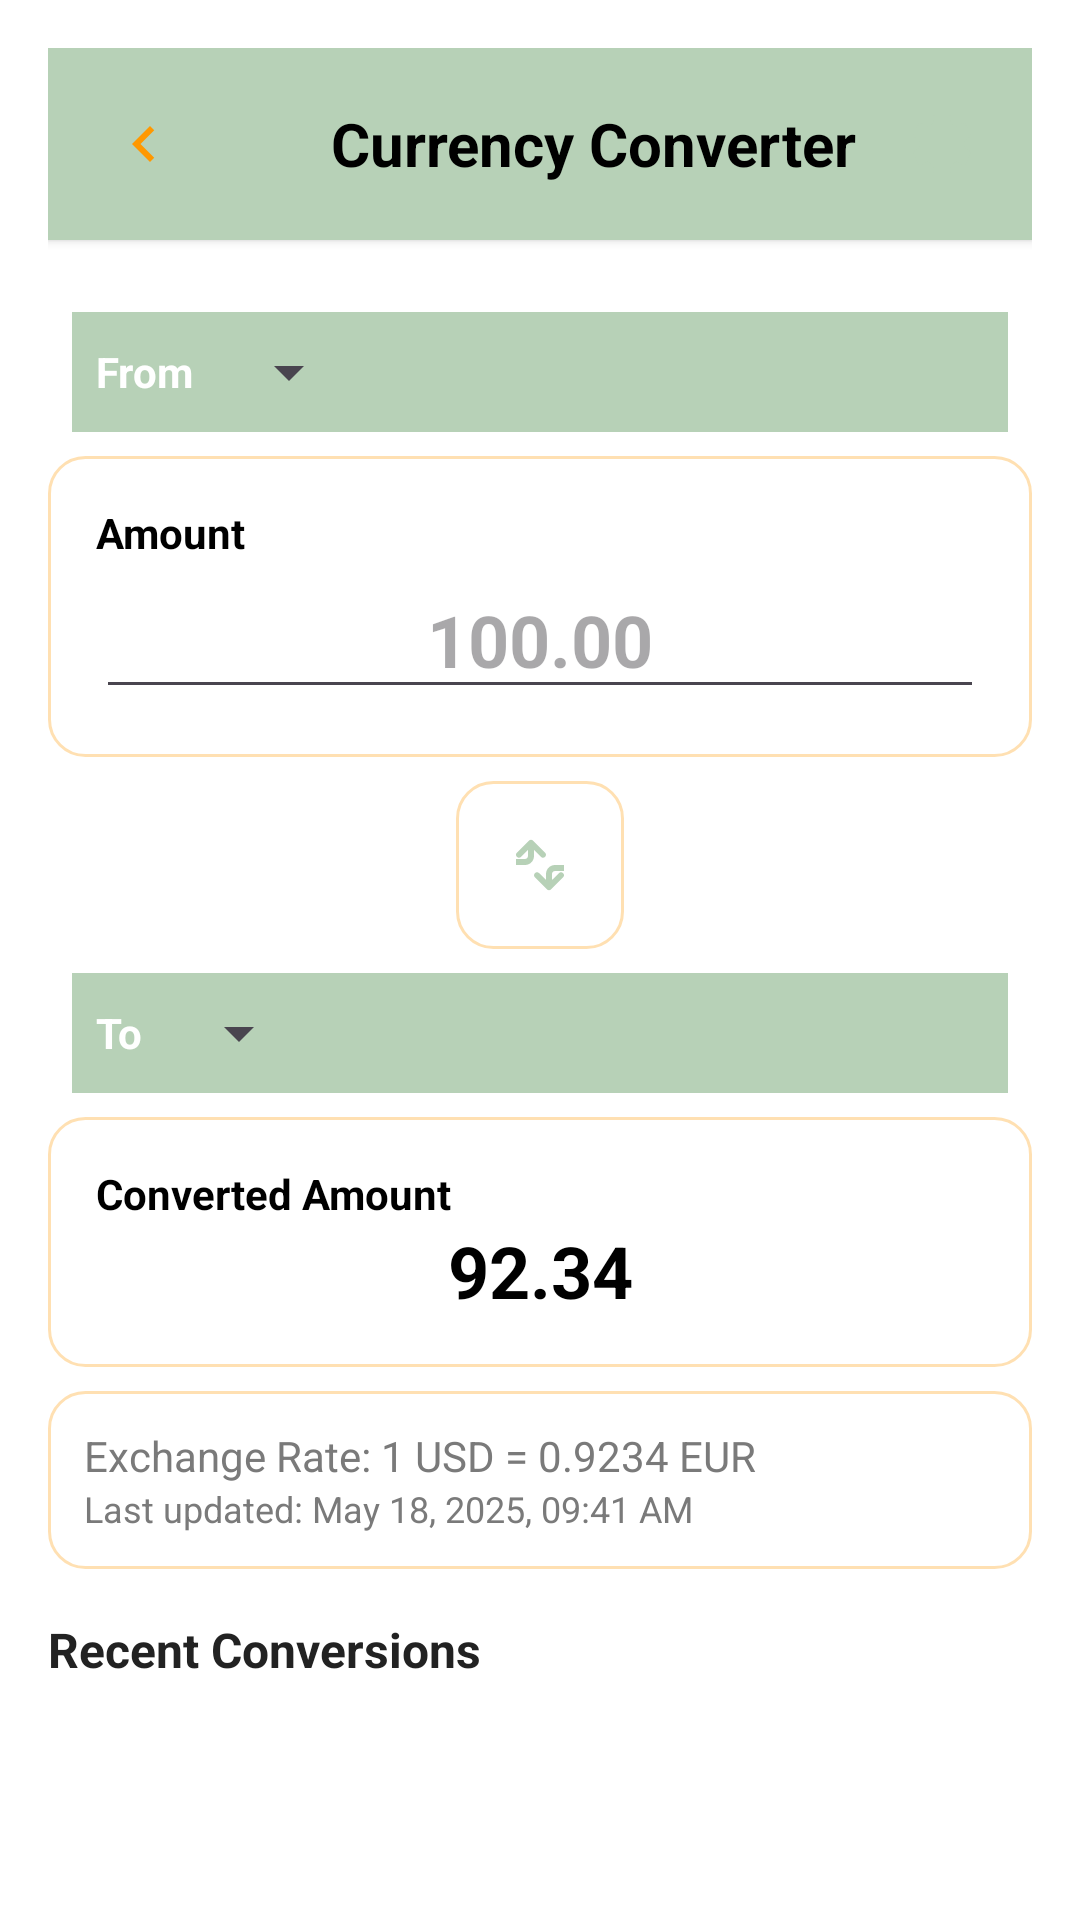

Where icons sit on this 1080w x 1920h app screen, as BBox(x1, y1, x2, y2):
Back: BBox(132, 126, 154, 162)
Swap: BBox(456, 781, 624, 949)
